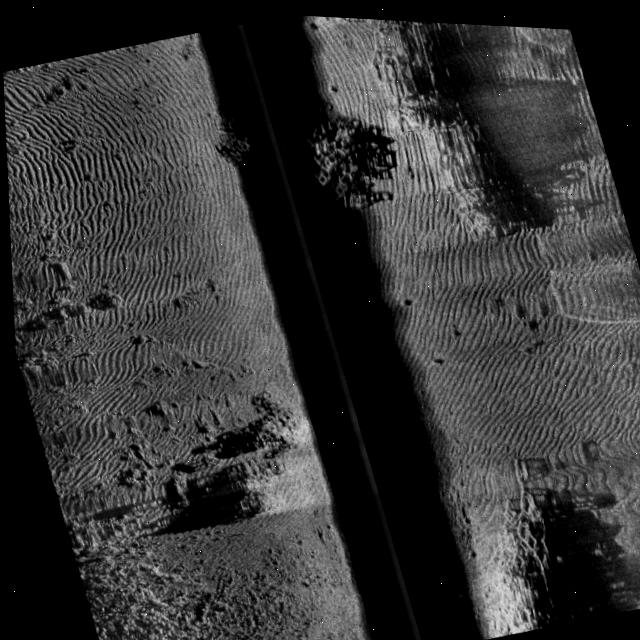artificial reef: (461, 471, 578, 633), (289, 85, 393, 225), (205, 101, 260, 177)
